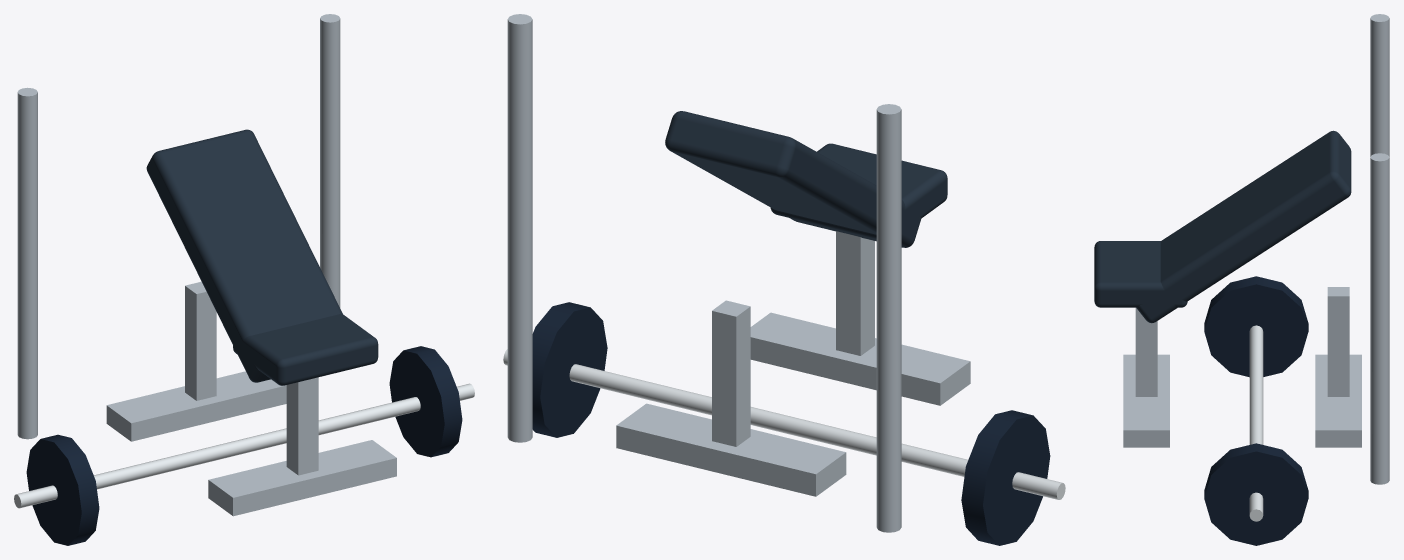
File: barbell_incline.glb
3 renders of one model, left to right at view 1: azimuth 30°, elevation 25°; view 2: azimuth 150°, elevation 25°; view 3: azimuth 270°, elevation 25°, orthographic. The views are drawn at different scales.
Visible parts, largest first — view 1: seat, benchFoot (×2), rack (×2), barbell_plate (×2), seatPad, benchLeg (×2), barbell; view 2: rack (×2), benchFoot (×2), barbell_plate (×2), seat, benchLeg (×2), barbell, seatPad; view 3: barbell_plate (×2), seat, rack (×2), benchFoot (×2), seatPad, benchLeg (×2), barbell.
Part boxes in pixels (bbox=[...]): seat: bbox=[146, 129, 342, 382]; benchFoot (×2): bbox=[106, 371, 396, 516]; rack (×2): bbox=[17, 14, 340, 439]; barbell_plate (×2): bbox=[26, 346, 462, 545]; seatPad: bbox=[233, 313, 378, 385]; benchLeg (×2): bbox=[185, 281, 318, 475]; barbell: bbox=[14, 383, 474, 508]; rack (×2): bbox=[507, 14, 901, 532]; benchFoot (×2): bbox=[616, 312, 970, 496]; barbell_plate (×2): bbox=[532, 302, 1050, 545]; seat: bbox=[665, 111, 921, 247]; benchLeg (×2): bbox=[712, 231, 874, 446]; barbell: bbox=[503, 349, 1065, 499]; seatPad: bbox=[770, 143, 947, 238]; barbell_plate (×2): bbox=[1204, 276, 1308, 545]; seat: bbox=[1136, 130, 1351, 323]; rack (×2): bbox=[1370, 14, 1389, 484]; benchFoot (×2): bbox=[1123, 354, 1361, 447]; seatPad: bbox=[1094, 241, 1187, 307]; benchLeg (×2): bbox=[1135, 287, 1349, 396]; barbell: bbox=[1249, 325, 1263, 521].
Size of the model in its own units: 1.8 by 1.49 by 1.08.
